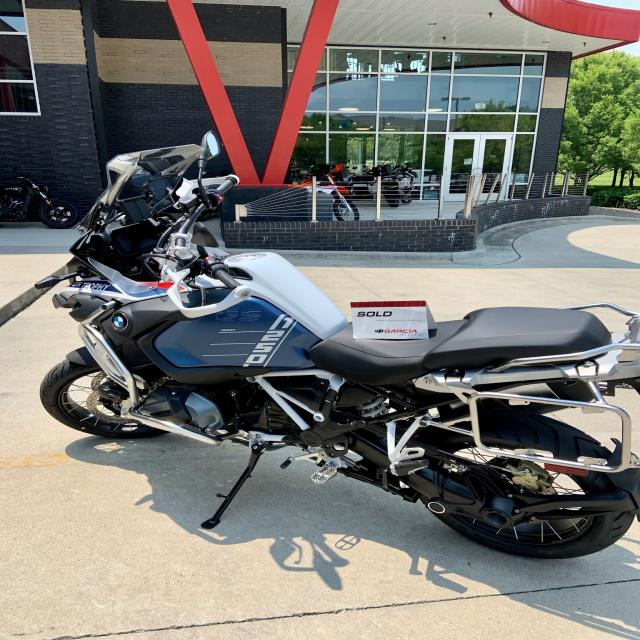Motorcycle: (39, 142, 640, 559)
